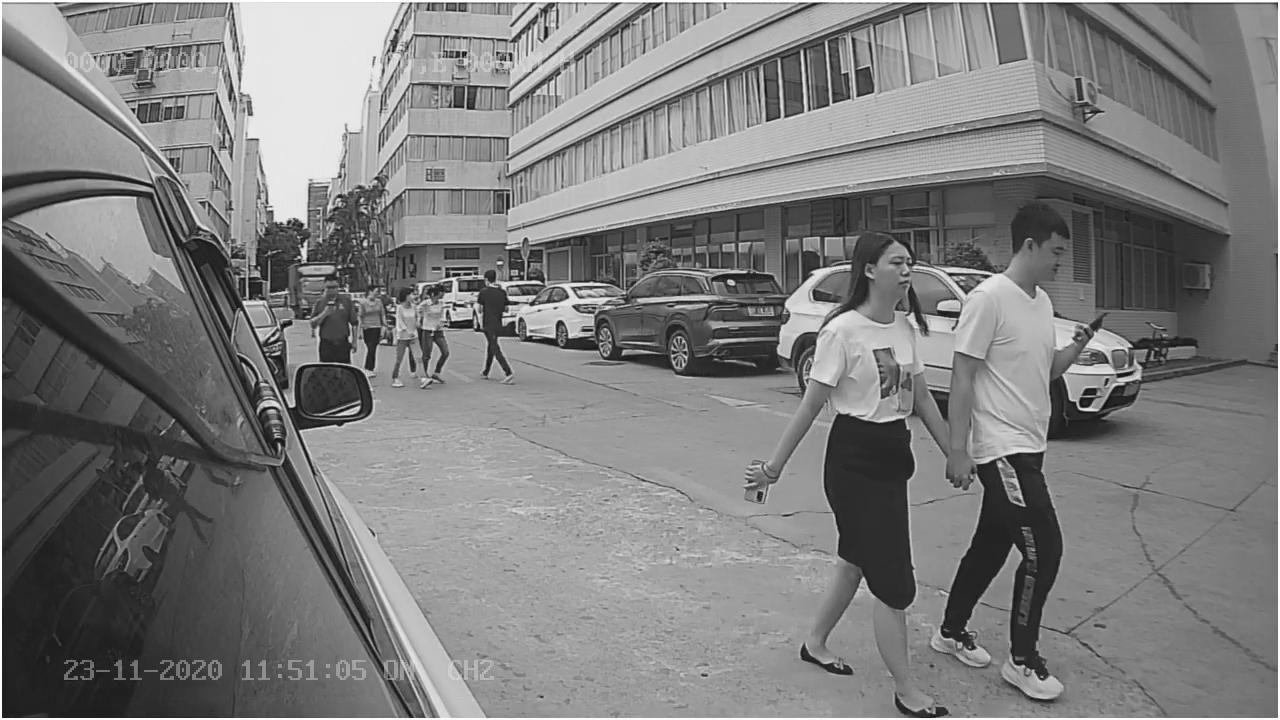person: (748, 215, 971, 716)
